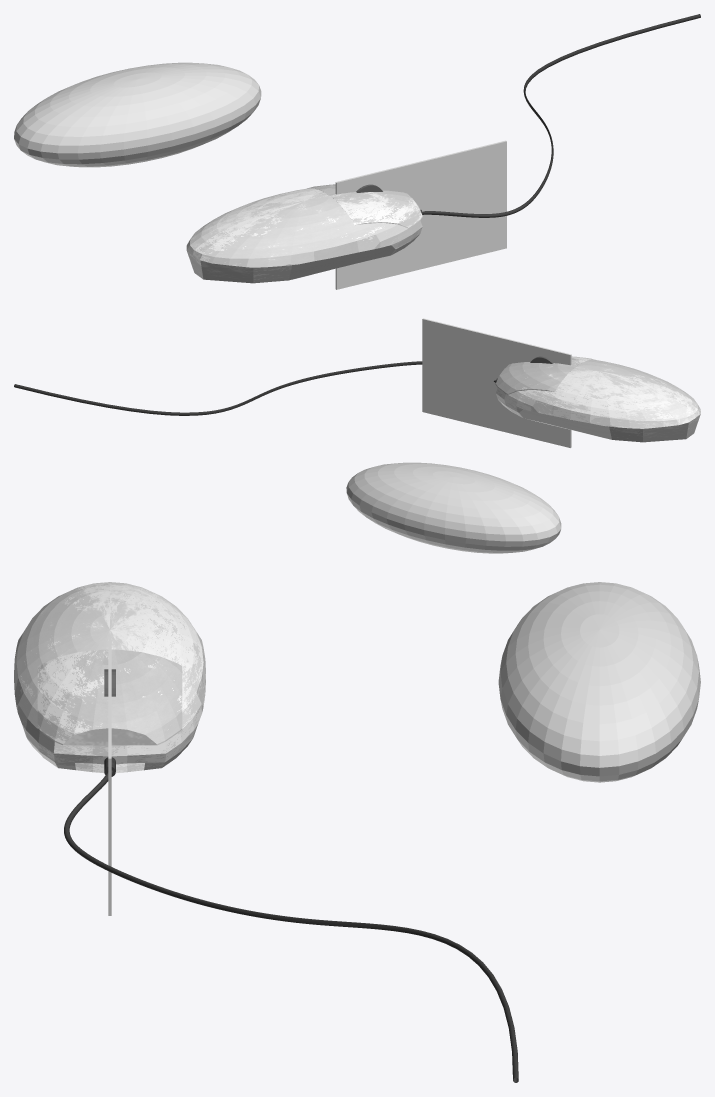
File: mouse.fbx
3 views of the same model, one above another, from view 1: azimuth 30°, elevation 25°; view 2: azimuth 150°, elevation 25°; view 3: azimuth 270°, elevation 25° (orthographic). The views are drawn at different scales.
Parts seen in each view (by area): view 1: mouse body.002, mouse body, cut, mOUSE BUTTONS.001, NurbsPath; view 2: mouse body.002, mouse body, cut, mOUSE BUTTONS.001, NurbsPath; view 3: mouse body.002, mouse body, mOUSE BUTTONS.001, NurbsPath, cut.
Part boxes in pixels (box(x1,y1,x2,y2)): mouse body.002: box(14, 62, 261, 167); mouse body: box(186, 188, 422, 283); cut: box(335, 140, 506, 289); mOUSE BUTTONS.001: box(307, 184, 422, 228); NurbsPath: box(422, 14, 700, 217); mouse body.002: box(346, 462, 561, 553); mouse body: box(496, 359, 700, 442); cut: box(422, 318, 571, 447); mOUSE BUTTONS.001: box(495, 356, 595, 394); NurbsPath: box(14, 361, 495, 415); mouse body.002: box(498, 582, 700, 782); mouse body: box(14, 582, 205, 772); mOUSE BUTTONS.001: box(37, 649, 182, 745); NurbsPath: box(64, 770, 518, 1082); cut: box(108, 636, 111, 915).
Bounding box in the file's own units: 38.32 × 6 × 23.75.
Materials: 4 (4 with a texture image).
